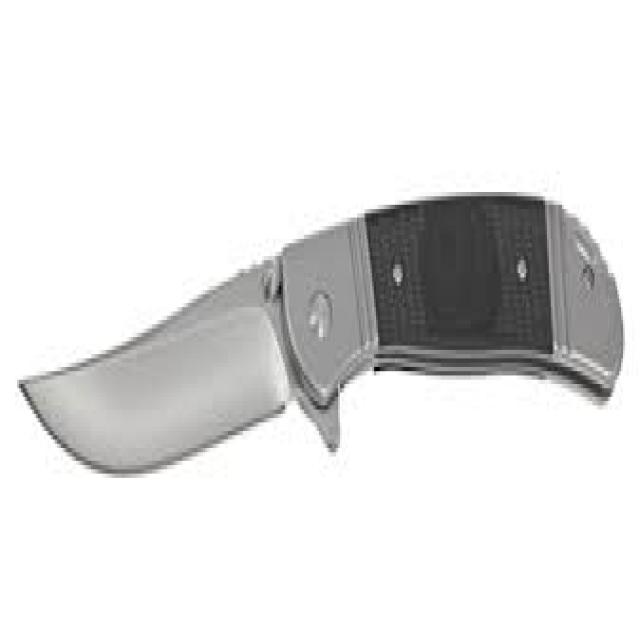knives: (15, 179, 625, 486)
